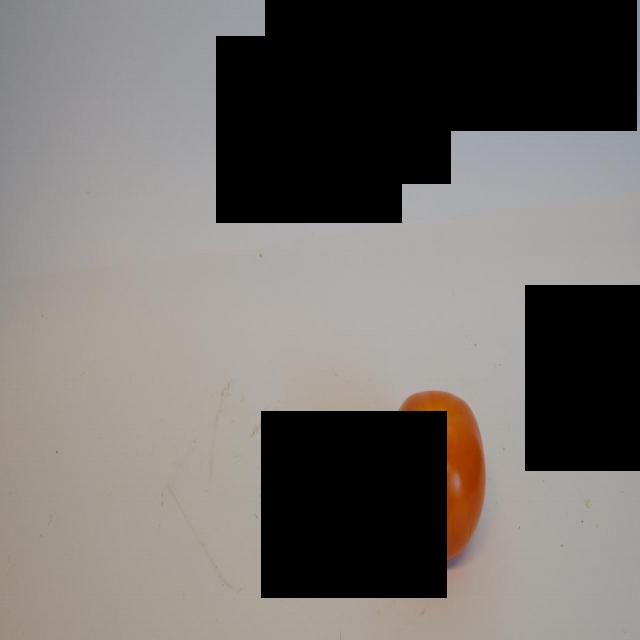tomato: (386, 375, 488, 568)
